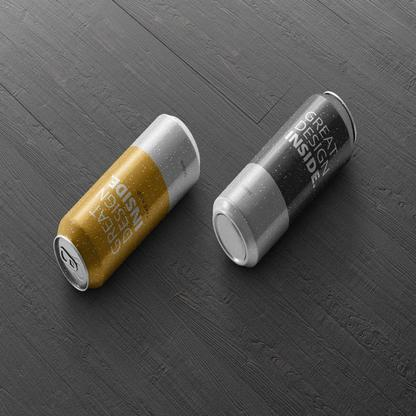can: (51, 111, 203, 294), (212, 88, 362, 271)
